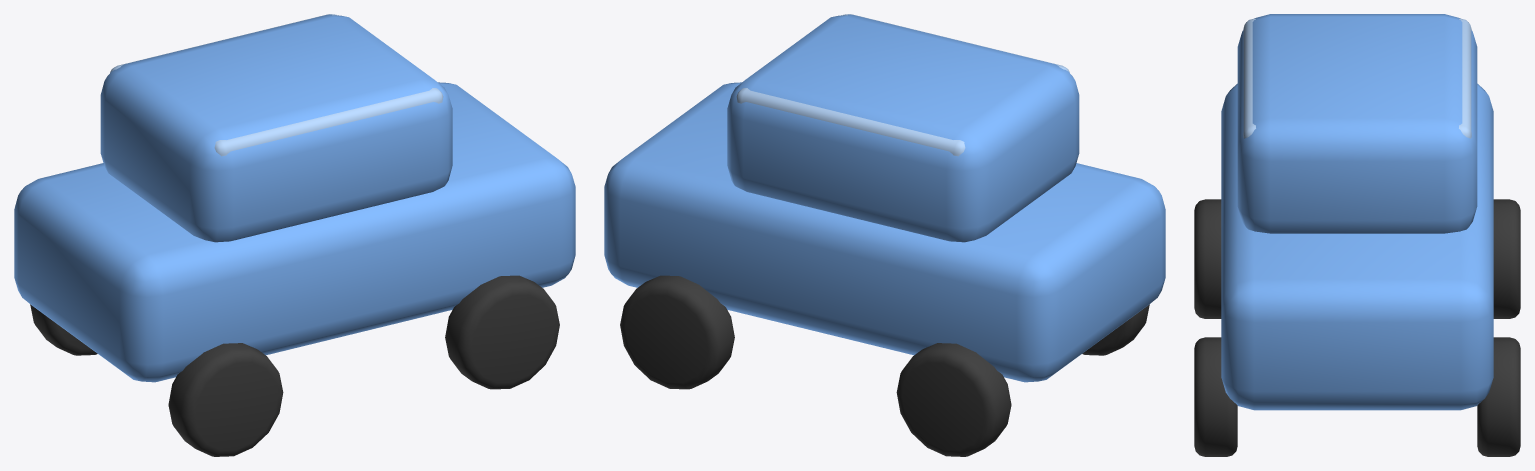
The model's file is car.glb.
3 views of the same model, side by side, from view 1: azimuth 30°, elevation 25°; view 2: azimuth 150°, elevation 25°; view 3: azimuth 270°, elevation 25° (orthographic). The views are drawn at different scales.
Parts seen in each view (by area): view 1: car; view 2: car; view 3: car.
Boxes of the visible parts, <box> form: car: <box>14,14,575,456</box>; car: <box>604,14,1165,456</box>; car: <box>1194,14,1520,456</box>.
Size of the model in its own units: 0.98 by 0.62 by 0.6.
